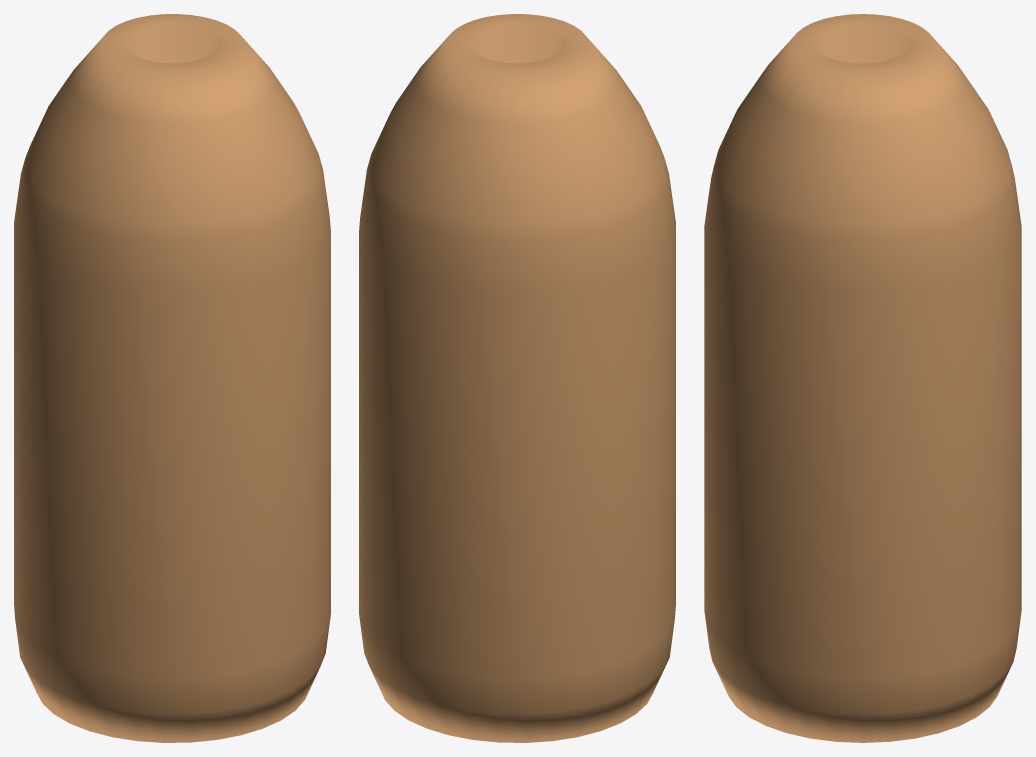
The model's file is M_PotDeco2.fbx.
3 renders of one model, left to right at view 1: azimuth 30°, elevation 25°; view 2: azimuth 150°, elevation 25°; view 3: azimuth 270°, elevation 25°, orthographic.
Parts seen in each view (by area): view 1: Cylindre.002; view 2: Cylindre.002; view 3: Cylindre.002.
Boxes of the visible parts, x1,y1,x2,y2 form: Cylindre.002: (14,14,330,742); Cylindre.002: (359,14,675,742); Cylindre.002: (704,14,1021,742).
Size of the model in its own units: 101 by 225 by 101.
